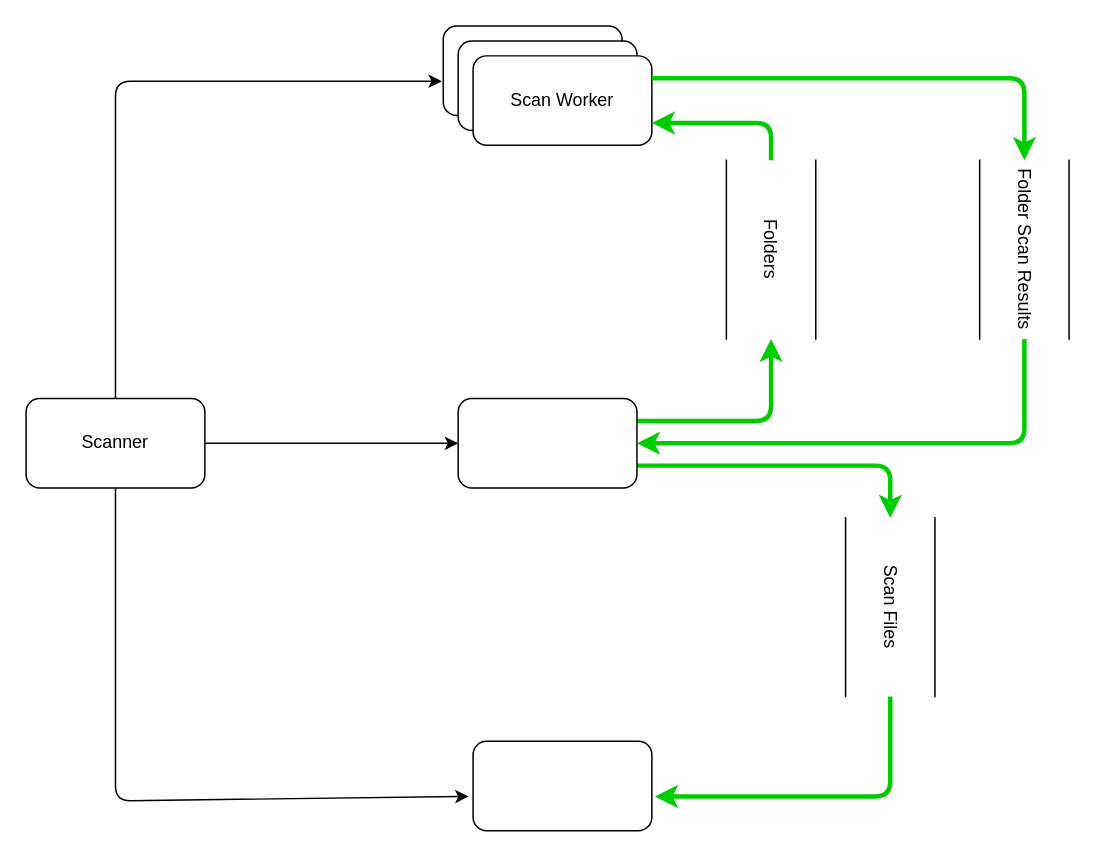
This 1095x857 diagram has some shape labels left out. Each missing label, with the centre of its shape:
"Scan Files Publisher" belongs at [562,785].
"Scan Result Processor" belongs at [547,442].
